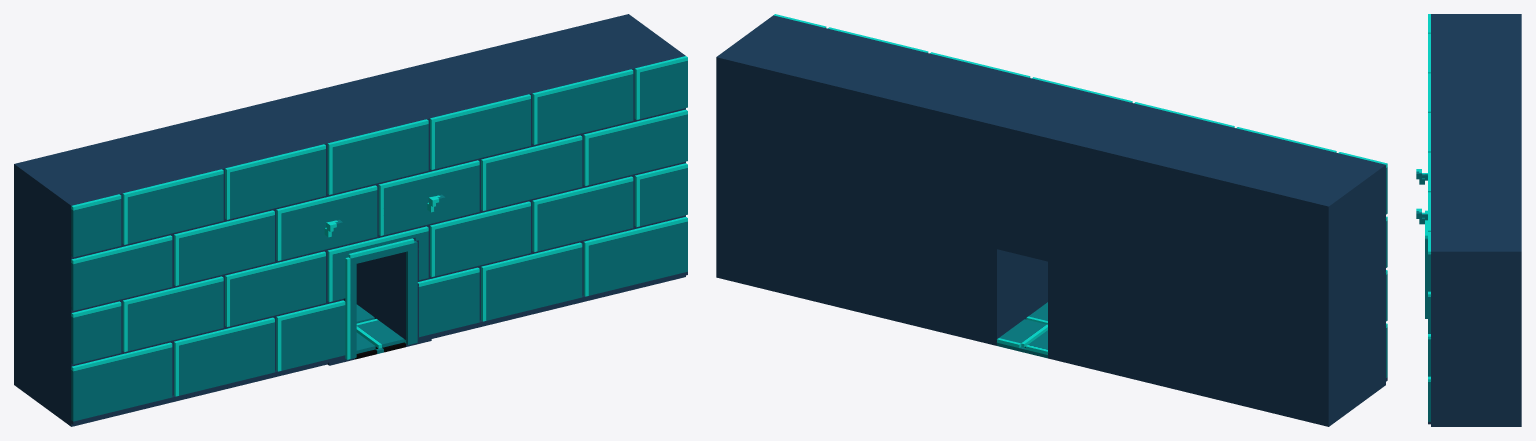
Rendered from NorthWallDoor.glb.
3 views of the same model, side by side, from view 1: azimuth 30°, elevation 25°; view 2: azimuth 150°, elevation 25°; view 3: azimuth 270°, elevation 25° (orthographic). The views are drawn at different scales.
Parts seen in each view (by area): view 1: NorthWallDoor; view 2: NorthWallDoor; view 3: NorthWallDoor.
Boxes of the visible parts, x1,y1,x2,y2 form: NorthWallDoor: (14, 14, 687, 426); NorthWallDoor: (716, 14, 1387, 426); NorthWallDoor: (1416, 14, 1521, 426).
Size of what is drawn, in the model's own units: 19.2 by 6.6 by 3.6.
Materials: 1 (1 with a texture image).
